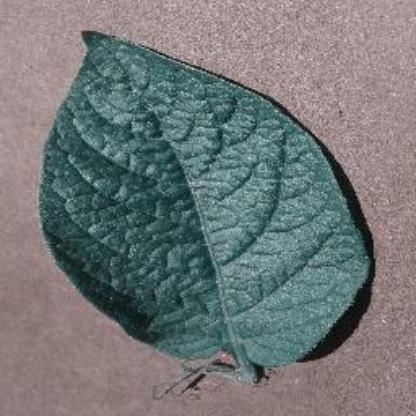Healthy-plant: (36, 21, 396, 383)
